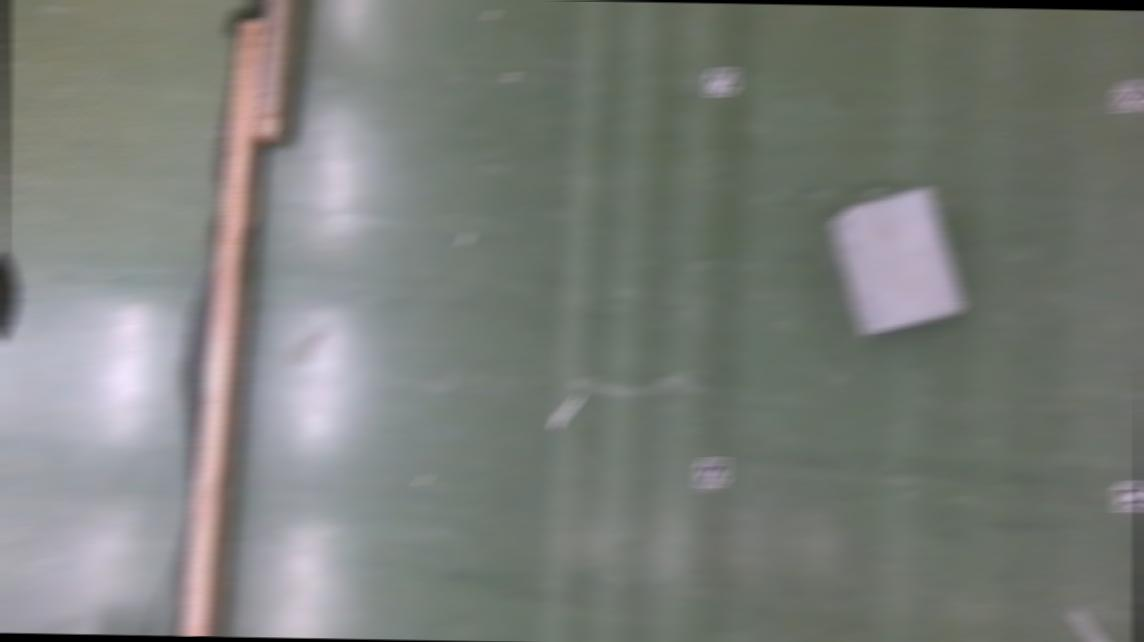probes: (1068, 606, 1106, 642), (551, 392, 581, 430)
rako: (827, 184, 968, 340)
